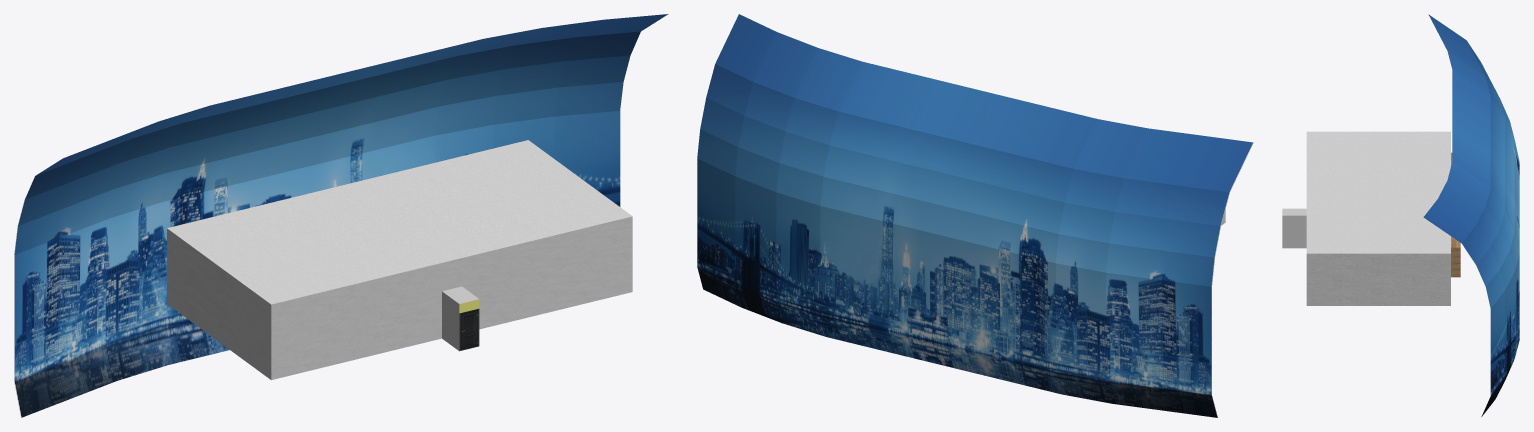
Rendered from art.glb.
3 views of the same model, side by side, from view 1: azimuth 30°, elevation 25°; view 2: azimuth 150°, elevation 25°; view 3: azimuth 270°, elevation 25° (orthographic). The views are drawn at different scales.
Parts seen in each view (by area): view 1: leinwand-art, roof, room; view 2: leinwand-art; view 3: leinwand-art, roof, room.
Boxes of the visible parts, x1=… form: leinwand-art: x1=14, y1=14, x2=668, y2=417; roof: x1=167, y1=140, x2=632, y2=304; room: x1=167, y1=216, x2=632, y2=380; leinwand-art: x1=697, y1=14, x2=1253, y2=417; leinwand-art: x1=1423, y1=14, x2=1519, y2=416; roof: x1=1306, y1=131, x2=1450, y2=253; room: x1=1282, y1=152, x2=1460, y2=305.
Size of the model in its own units: 100 by 46 by 49.26.
Materials: 17 (17 with a texture image).
